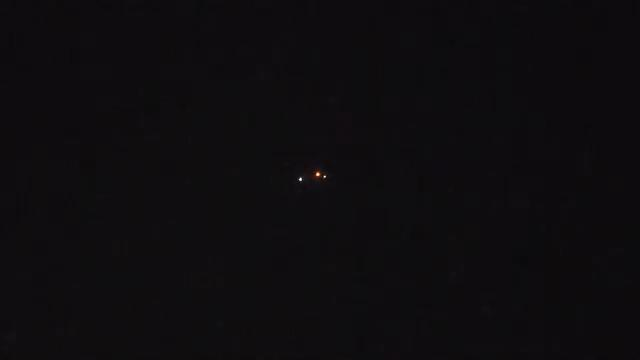Plane: (282, 164, 349, 191)
